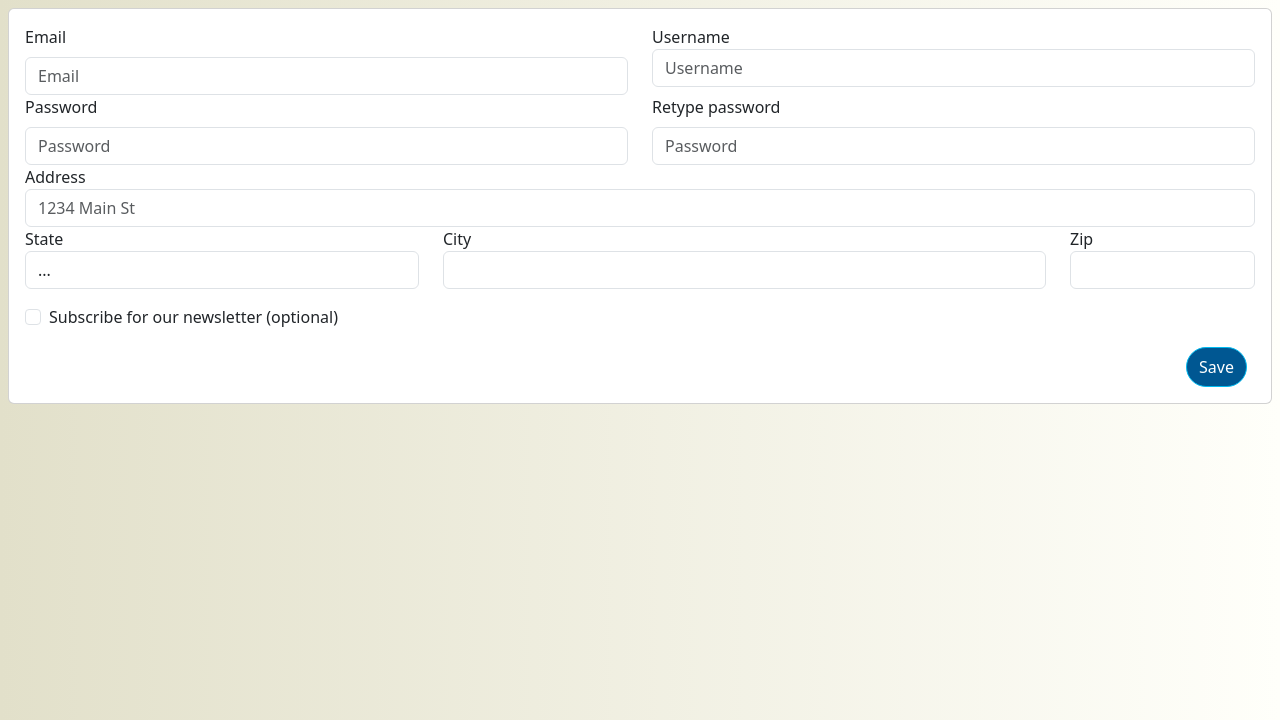
it: User form tests › should give an error if password and retype doesn't match
Type "12345678" into the password field with test id "password" at coordinates (326, 146), box [25,127,628,165]
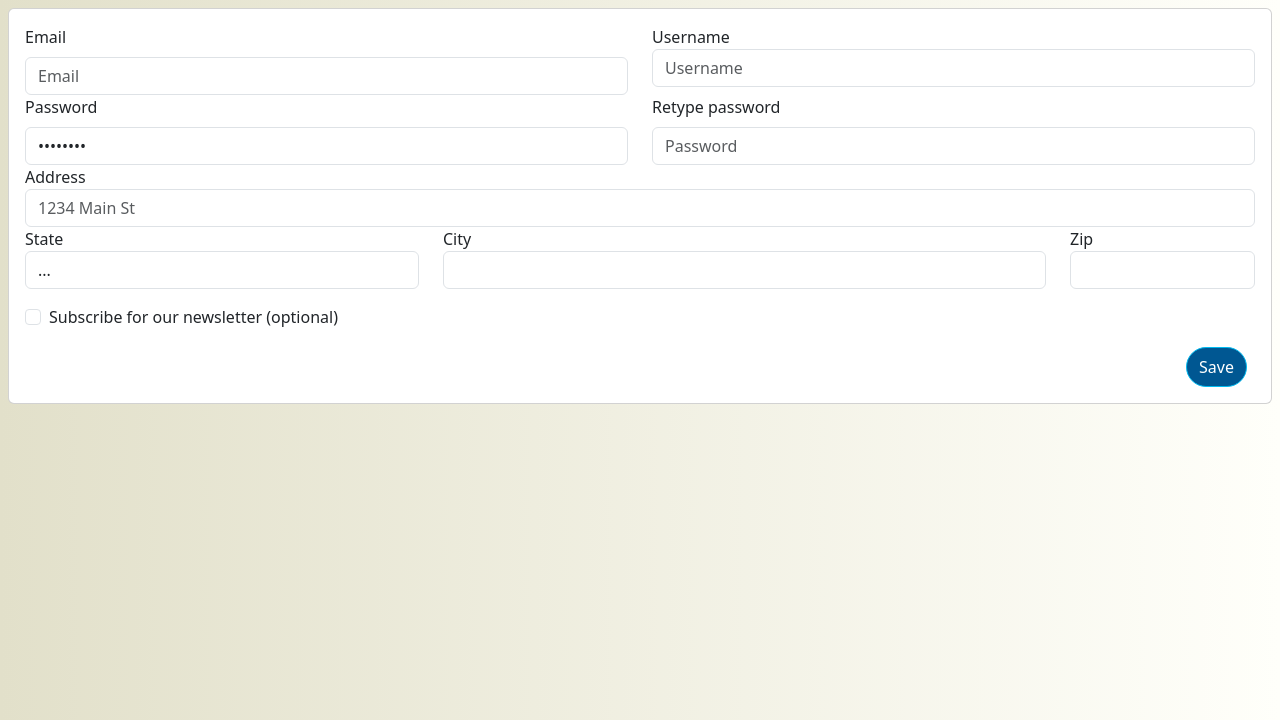
Type "123456789" into the password field with test id "rePassword" at coordinates (954, 146), box [652,127,1255,165]
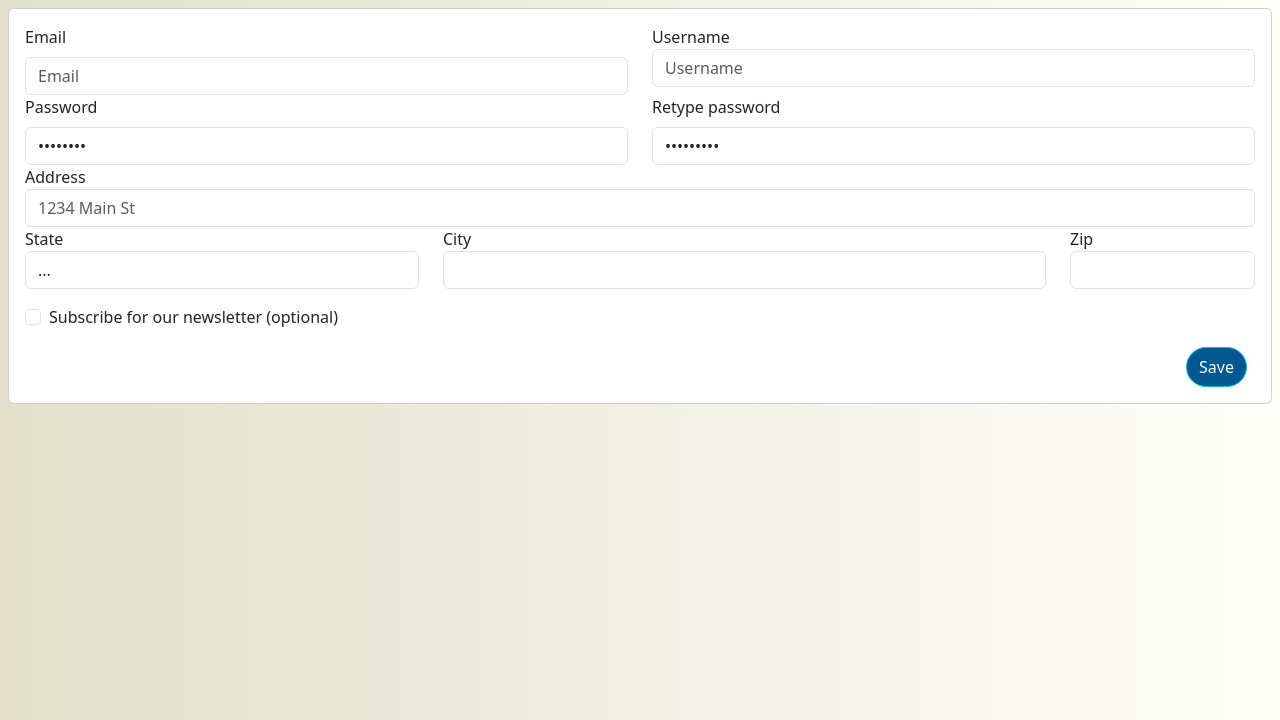
Leave the password field with test id "rePassword", box [652,127,1255,165]
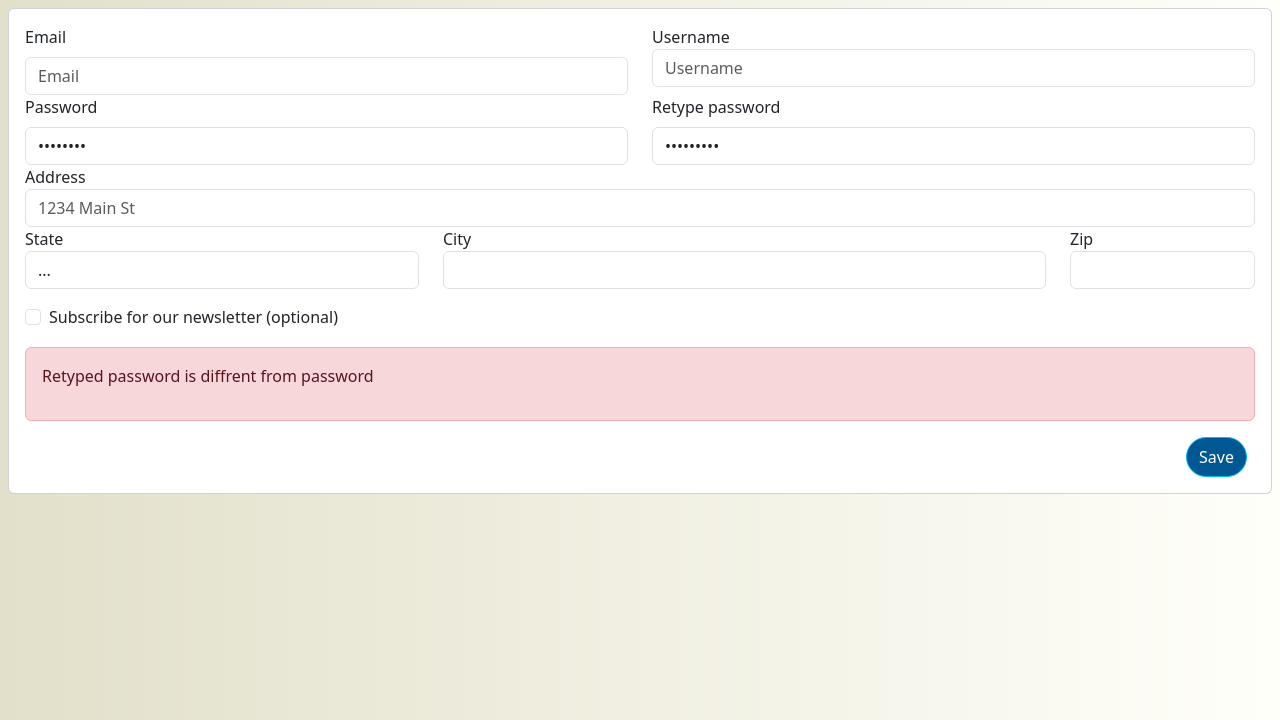
Now the text "Retyped password is diffrent from password" is shown, box [42,365,374,387]
